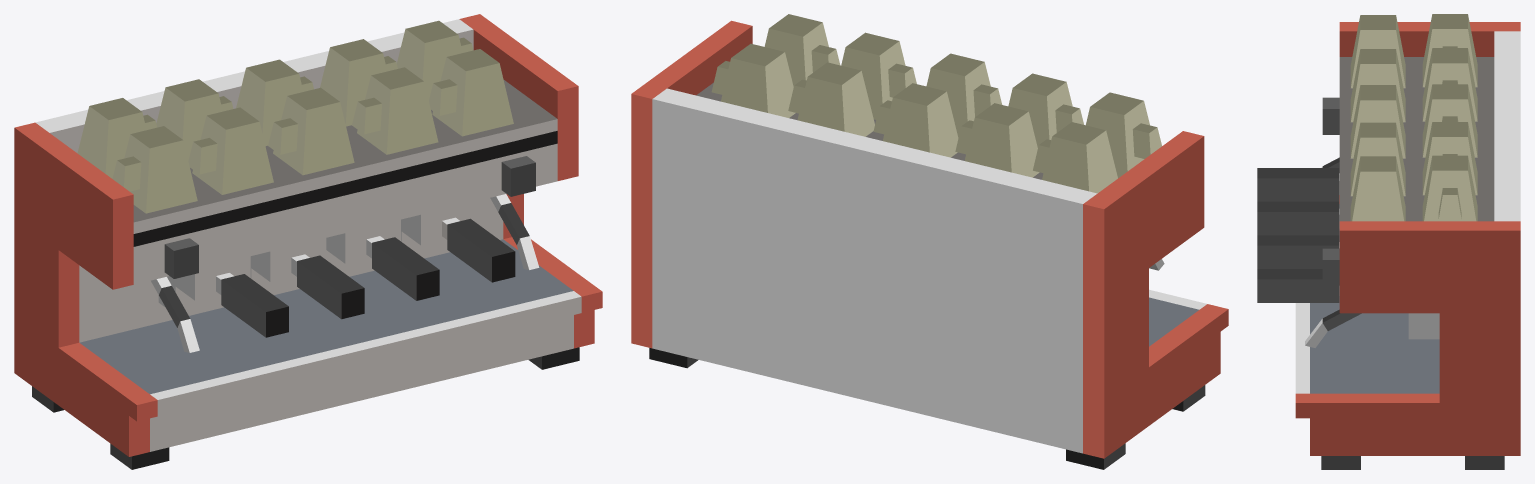
The model's file is CoffeeMachine.glb.
The picture shows the model from 3 angles, left to right: view 1: azimuth 30°, elevation 25°; view 2: azimuth 150°, elevation 25°; view 3: azimuth 270°, elevation 25°; orthographic projection. The views are drawn at different scales.
Parts seen in each view (by area): view 1: SI_Prop_CoffeeMachine_01; view 2: SI_Prop_CoffeeMachine_01; view 3: SI_Prop_CoffeeMachine_01.
Boxes of the visible parts, x1,y1,x2,y2 form: SI_Prop_CoffeeMachine_01: [14, 14, 602, 469]; SI_Prop_CoffeeMachine_01: [631, 14, 1228, 469]; SI_Prop_CoffeeMachine_01: [1257, 14, 1520, 469].
Bounding box in the file's own units: 0.0217 × 0.0132 × 0.0116.
Materials: 1 (1 with a texture image).
